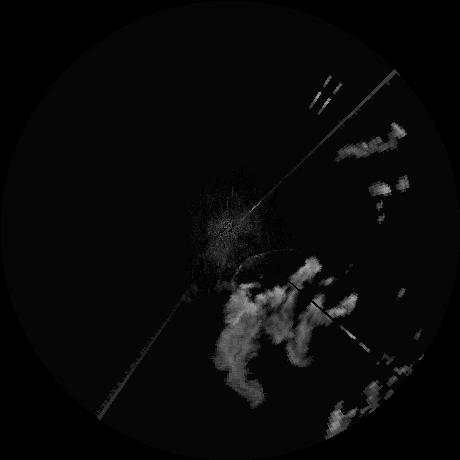frontgust: (233, 252, 267, 284)
